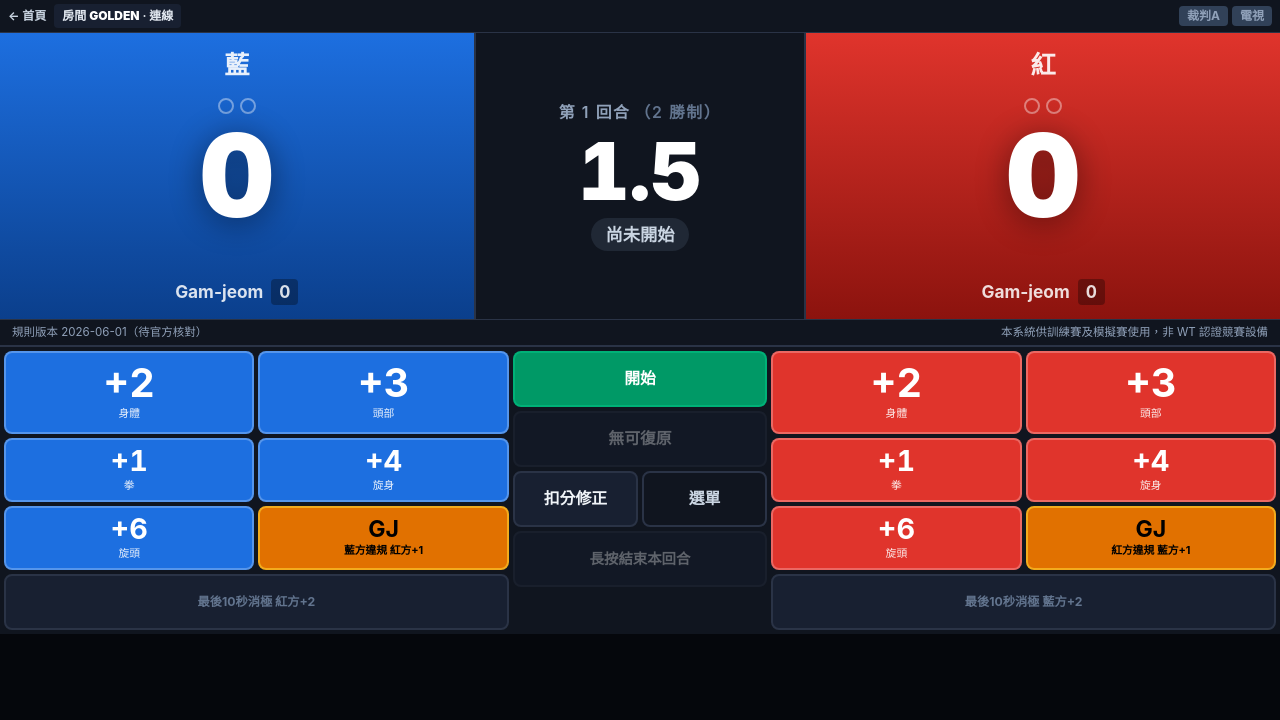
Test: 黃金｜單機與房間模式行為一致 › 房間模式：回合時間到會自動結算並進入休息
Click the button "開始" at (640, 379), box [513, 351, 767, 407]
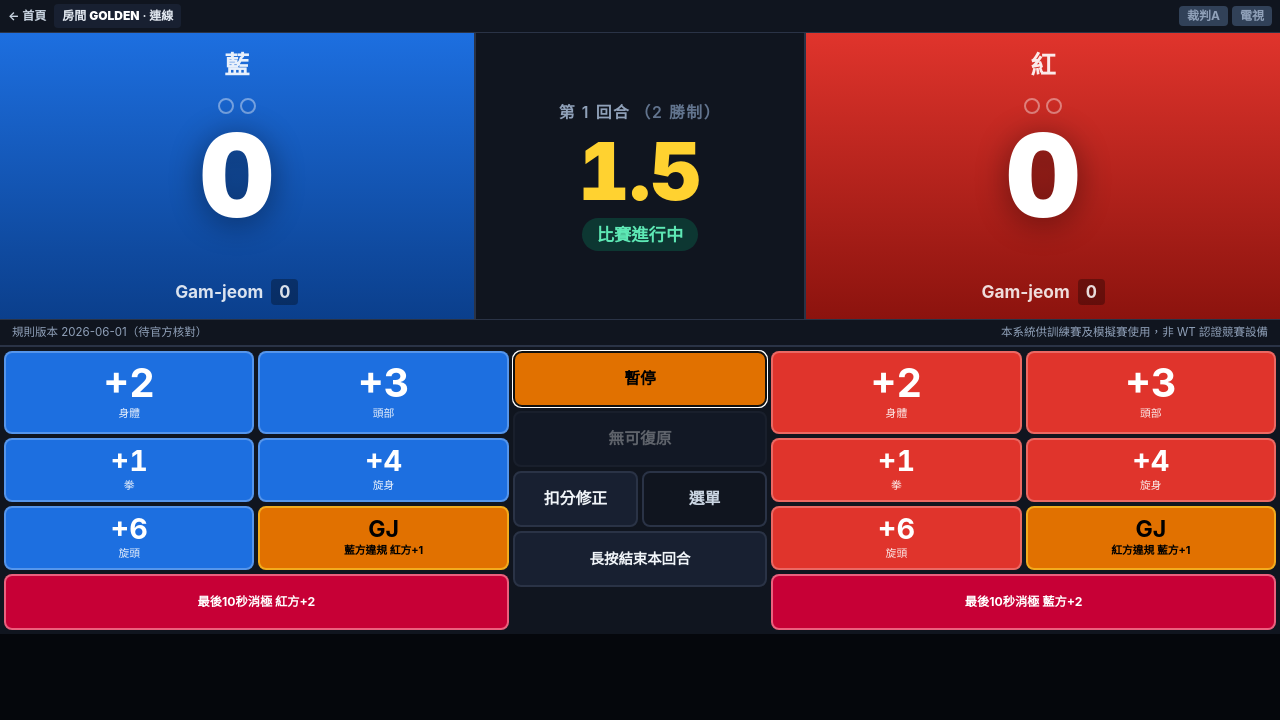
Check: the text "比賽進行中" is shown, box [582, 218, 698, 251]
Click the button with aria-label "藍方 頭部踢擊 得 3 分" at (384, 393), box [258, 351, 509, 434]
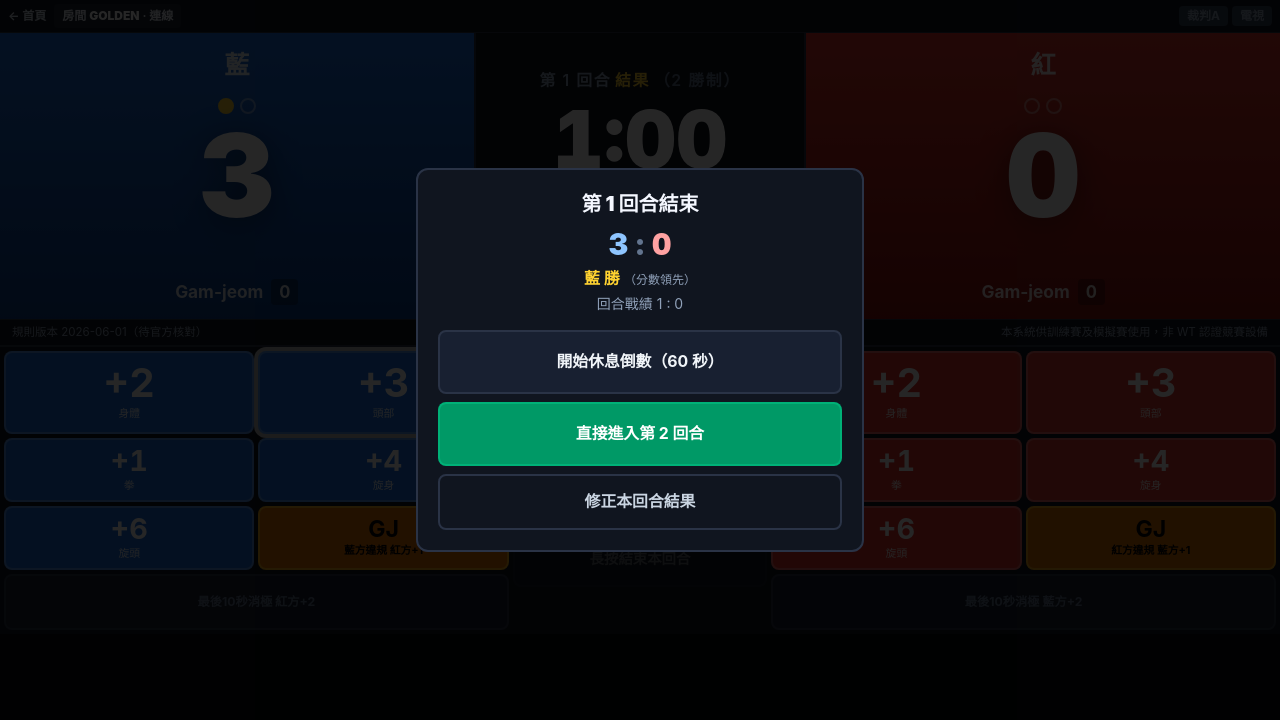
Check: the text "休息中" is shown, box [600, 186, 680, 220]
Check: the text "比賽進行中" is gone
Check: the text named "藍方分數" reads "3", box [200, 105, 274, 245]
